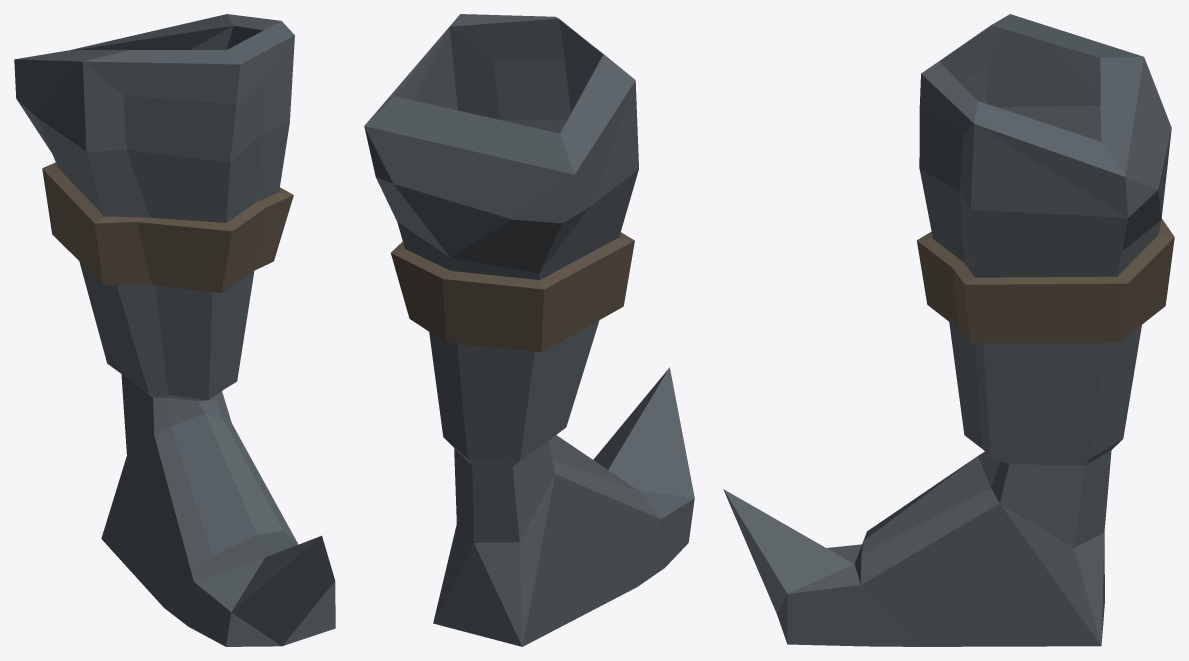
Rendered from Chr_LegRight_Female_02_Static.fbx.
3 views of the same model, side by side, from view 1: azimuth 30°, elevation 25°; view 2: azimuth 150°, elevation 25°; view 3: azimuth 270°, elevation 25° (orthographic). The views are drawn at different scales.
Parts seen in each view (by area): view 1: Chr_LegRight_Female_02_Static; view 2: Chr_LegRight_Female_02_Static; view 3: Chr_LegRight_Female_02_Static.
Boxes of the visible parts, box(x1,y1,x2,y2) form: Chr_LegRight_Female_02_Static: box(14, 14, 335, 646); Chr_LegRight_Female_02_Static: box(364, 14, 694, 646); Chr_LegRight_Female_02_Static: box(723, 14, 1174, 646).
Bounding box in the file's own units: 0.1665 × 0.4043 × 0.2932.
